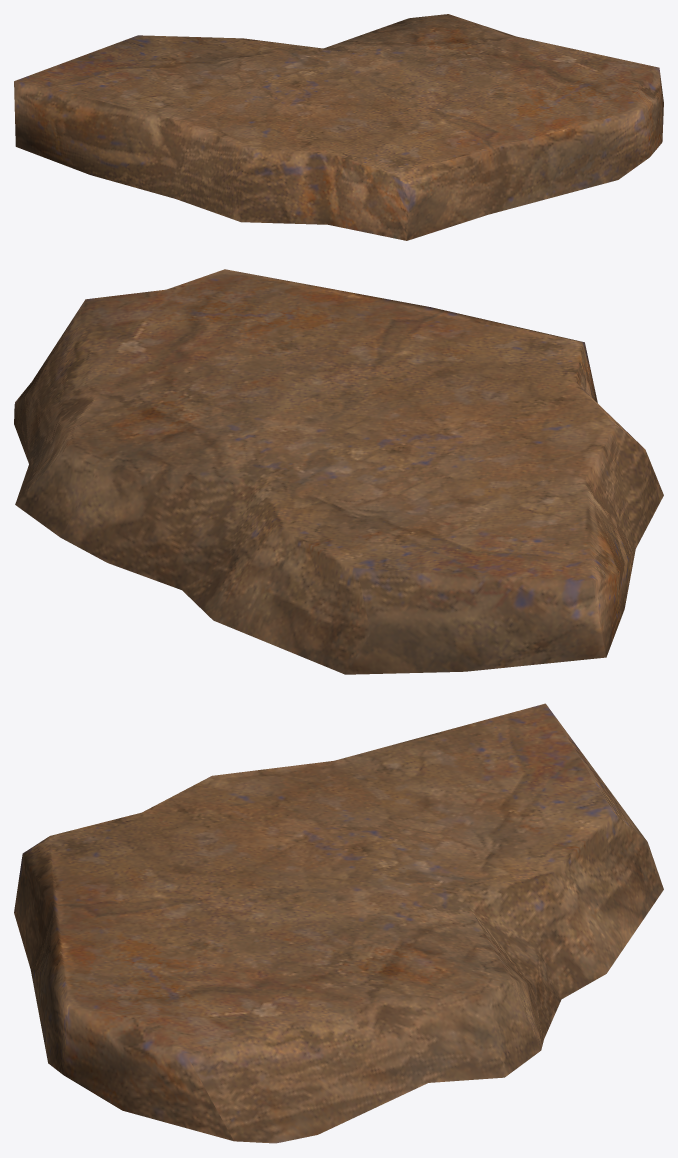
The model's file is Rock_Shales_02_L1.fbx.
3 views of the same model, one above another, from view 1: azimuth 30°, elevation 25°; view 2: azimuth 150°, elevation 25°; view 3: azimuth 270°, elevation 25° (orthographic). The views are drawn at different scales.
Visible parts, largest first — view 1: polySurface242; view 2: polySurface242; view 3: polySurface242.
Part boxes in pixels (x1,y1,x2,y2): polySurface242: (14, 14, 663, 240); polySurface242: (14, 269, 663, 674); polySurface242: (14, 703, 663, 1143).
Size of the model in its own units: 111 by 14.96 by 87.15.
